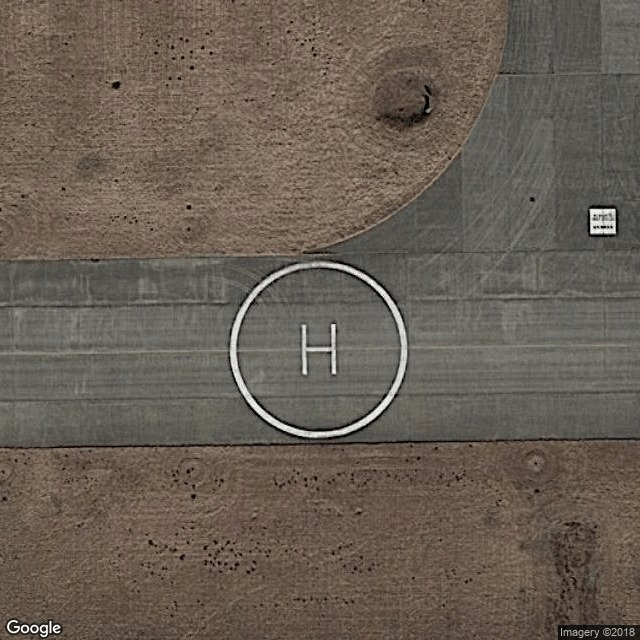heliport: (295, 319, 341, 378)
